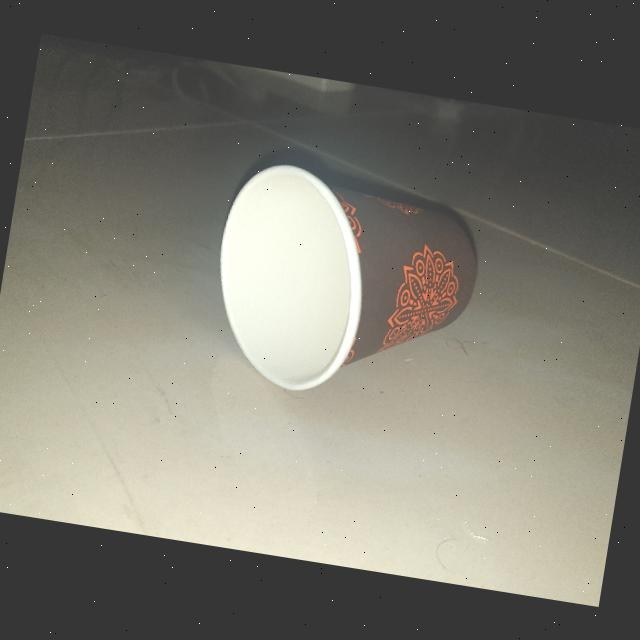trash: (192, 146, 496, 424)
